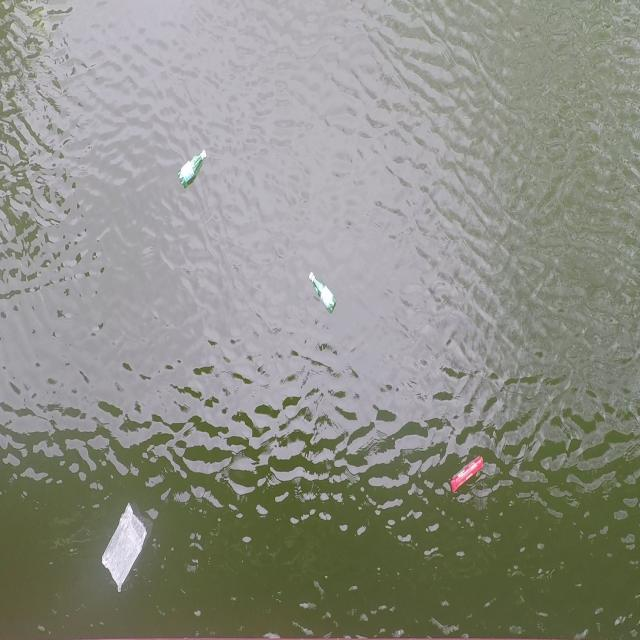Bouteille plastique: (304, 268, 344, 318), (177, 145, 209, 193)
